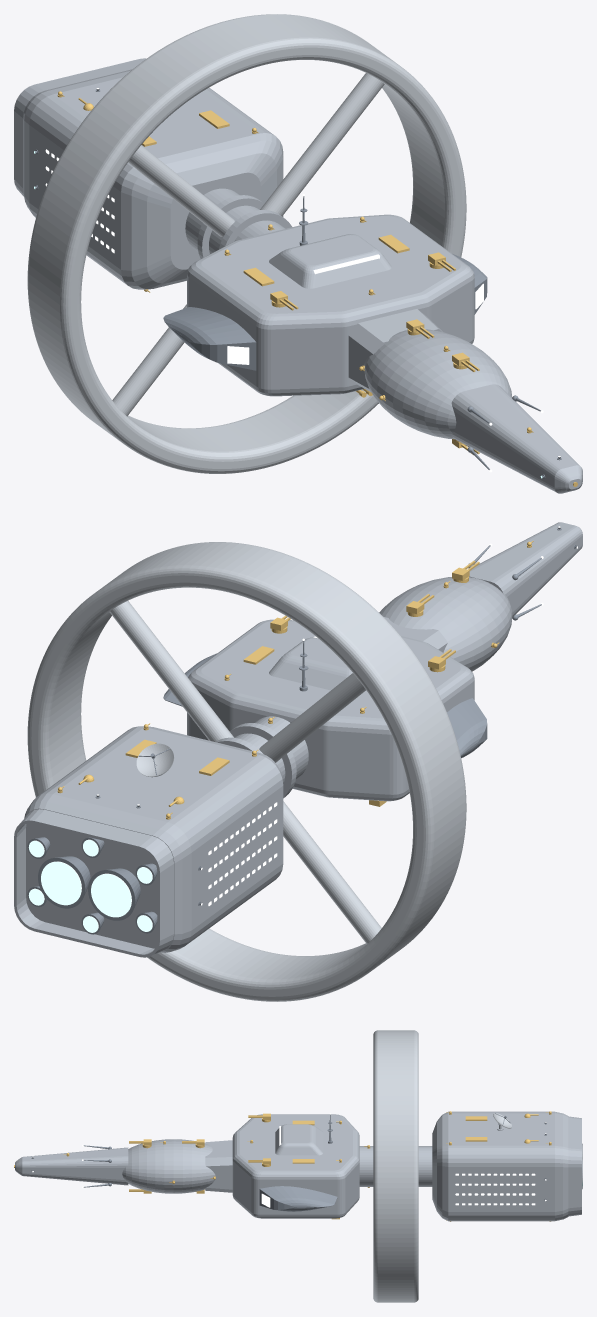
Rendered from Hyperion_Blockout.glb.
3 renders of one model, top to bottom at view 1: azimuth 30°, elevation 25°; view 2: azimuth 150°, elevation 25°; view 3: azimuth 270°, elevation 25°, orthographic. The views are drawn at different scales.
Visible parts, largest first — view 1: SM_Anneau, SM_S3_Commandement, SM_S5_Propulsion, SM_S2_Ovale, SM_Rayons, SM_S1_Proue, SM_Passerelle, SM_S4_Moyeu, SM_Nacelle_D, SM_Carenage_Moteurs; view 2: SM_Anneau, SM_S5_Propulsion, SM_S3_Commandement, SM_Rayons, SM_S2_Ovale, SM_Carenage_Moteurs, SM_S1_Proue, SM_Passerelle, SM_S4_Moyeu, SM_Tuyere_Main_R, SM_Tuyere_Main_L, SM_Nacelle_D (+2 smaller); view 3: SM_S5_Propulsion, SM_Anneau, SM_S3_Commandement, SM_S2_Ovale, SM_S1_Proue, SM_Nacelle_G, SM_Passerelle, SM_Carenage_Moteurs, SM_S4_Moyeu, SM_Hublots_S5.
Boxes of the visible parts, bbox=[...] form: SM_Anneau: bbox=[27, 14, 466, 473]; SM_S3_Commandement: bbox=[187, 214, 474, 396]; SM_S5_Propulsion: bbox=[23, 69, 283, 289]; SM_S2_Ovale: bbox=[348, 309, 512, 439]; SM_Rayons: bbox=[112, 73, 384, 416]; SM_S1_Proue: bbox=[451, 384, 582, 493]; SM_Passerelle: bbox=[269, 234, 391, 288]; SM_S4_Moyeu: bbox=[185, 188, 291, 258]; SM_Nacelle_D: bbox=[163, 307, 256, 370]; SM_Carenage_Moteurs: bbox=[14, 58, 145, 196]; SM_Anneau: bbox=[27, 542, 466, 1001]; SM_S5_Propulsion: bbox=[24, 726, 283, 952]; SM_S3_Commandement: bbox=[187, 619, 474, 801]; SM_Rayons: bbox=[109, 601, 381, 943]; SM_S2_Ovale: bbox=[379, 577, 512, 671]; SM_Carenage_Moteurs: bbox=[14, 809, 173, 957]; SM_S1_Proue: bbox=[469, 522, 582, 617]; SM_Passerelle: bbox=[269, 636, 352, 690]; SM_S4_Moyeu: bbox=[215, 716, 308, 798]; SM_Tuyere_Main_R: bbox=[88, 868, 140, 920]; SM_Tuyere_Main_L: bbox=[38, 856, 90, 908]; SM_Nacelle_D: bbox=[447, 698, 487, 757]; SM_S5_Propulsion: bbox=[432, 1111, 568, 1221]; SM_Anneau: bbox=[373, 1030, 418, 1302]; SM_S3_Commandement: bbox=[232, 1114, 359, 1218]; SM_S2_Ovale: bbox=[122, 1139, 232, 1193]; SM_S1_Proue: bbox=[15, 1147, 128, 1185]; SM_Nacelle_G: bbox=[259, 1186, 337, 1211]; SM_Passerelle: bbox=[275, 1124, 323, 1155]; SM_Carenage_Moteurs: bbox=[568, 1116, 581, 1216]; SM_S4_Moyeu: bbox=[359, 1146, 432, 1186]; SM_Hublots_S5: bbox=[455, 1173, 535, 1205].
Bounding box in the file's own units: 600 × 600 × 1254.
